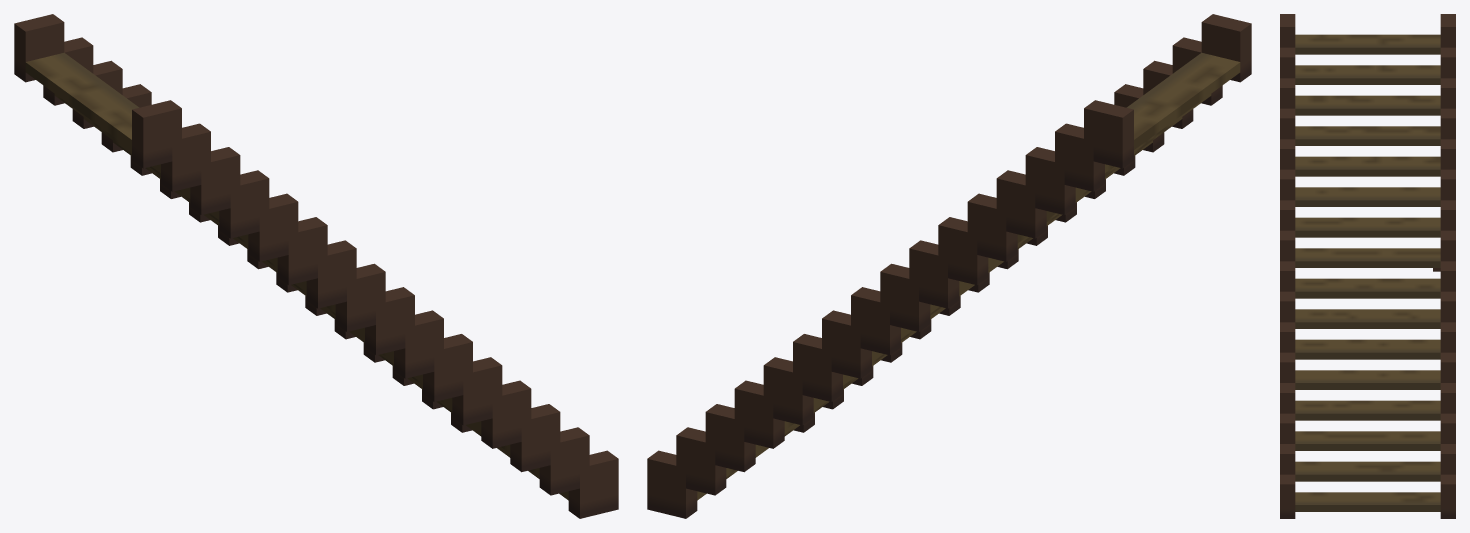
File: Stairs_Inside_00.fbx
The picture shows the model from 3 angles, left to right: view 1: azimuth 30°, elevation 25°; view 2: azimuth 150°, elevation 25°; view 3: azimuth 270°, elevation 25°; orthographic projection. The views are drawn at different scales.
Visible parts, largest first — view 1: Stairs_Inside_00; view 2: Stairs_Inside_00; view 3: Stairs_Inside_00.
Part boxes in pixels (box(x1,y1,x2,y2)): Stairs_Inside_00: box(14, 14, 618, 518); Stairs_Inside_00: box(647, 14, 1251, 518); Stairs_Inside_00: box(1280, 14, 1455, 518).
Size of the model in its own units: 245 by 250 by 115.
